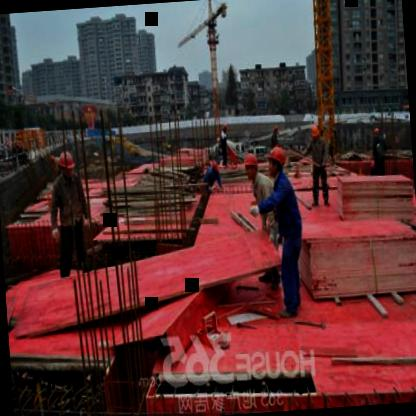helmet: (264, 142, 289, 177), (240, 148, 260, 183), (58, 146, 78, 181), (310, 121, 322, 142)
